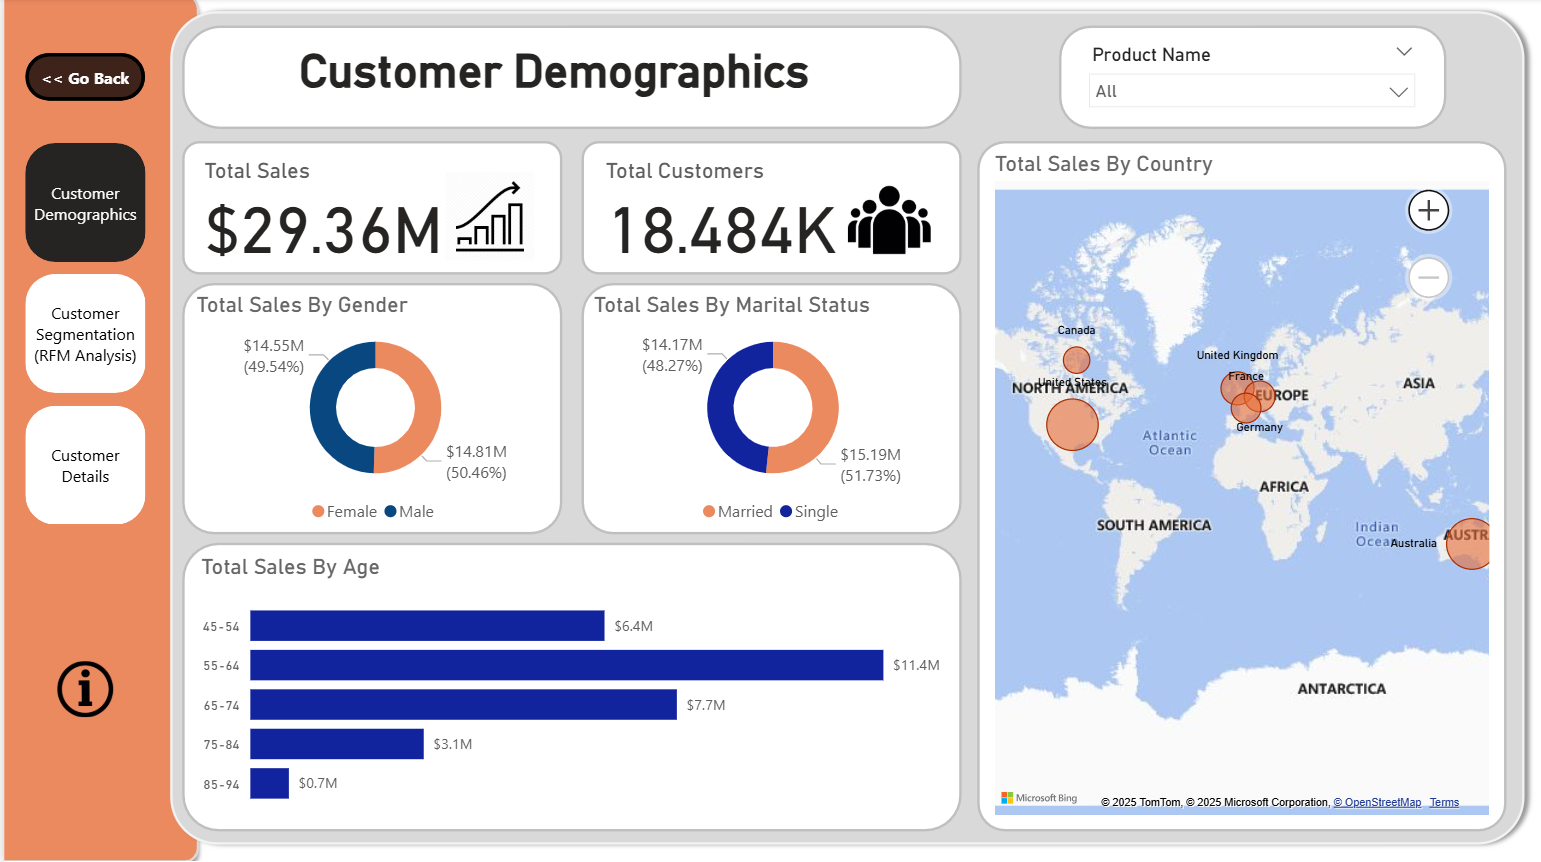

The page's visual inventory and layout, read from the dashboard file:
{"tool":"powerbi","page":{"name":"Customer Demographics","canvas":[1280,720],"ordinal":0},"visuals":[{"type":"cardVisual","fields":{"Data":["Sum(FactInternetSales.SalesAmount)"]},"box":[150,120.9,309.3,104.7],"z":0},{"type":"cardVisual","fields":{"Data":["Count(FactInternetSales.CustomerKey)"]},"box":[483.7,120.9,304.7,104.7],"z":1000},{"type":"donutChart","title":"Total Sales By Gender","fields":{"Y":["Sum(FactInternetSales.SalesAmount)"],"Category":["DimCustomer.Gender"]},"box":[160.5,244.2,297.7,196.5],"z":2000},{"type":"donutChart","title":"Total Sales By Marital Status","fields":{"Y":["Sum(FactInternetSales.SalesAmount)"],"Category":["DimCustomer.MaritalStatus"]},"box":[490.7,244.2,297.7,196.5],"z":3000},{"type":"barChart","title":"Total Sales By Age","fields":{"Category":["DimCustomer.AgeRange"],"Y":["Sum(FactInternetSales.SalesAmount)"]},"box":[159,462.5,628.8,222.4],"z":4000},{"type":"map","title":"Total Sales By Country","fields":{"Category":["DimGeography.CountryName","DimGeography.City"],"Size":["Sum(FactInternetSales.SalesAmount)"]},"box":[818.9,126.8,420.9,558.1],"z":5000},{"type":"textbox","box":[190.7,33.7,534.9,65.1],"z":6000},{"type":"slicer","fields":{"Values":["DimProduct.ProductName"]},"box":[891.9,33.7,291.9,65.1],"z":7000},{"type":"pageNavigator","box":[17.4,120.9,100,319.8],"z":8000},{"type":"image","box":[36,546.5,61.6,55.8],"z":9000},{"type":"actionButton","box":[18,45.6,99.7,39.6],"z":10000}]}

Visuals, with their boxes in screenshot pixels (x1, y1, x2, y2), scaled from the page's 1280x720 canvas onto the 1541x862 screenshot:
cardVisual - Sum(FactInternetSales.SalesAmount): box=[181, 145, 553, 270]
cardVisual - Count(FactInternetSales.CustomerKey): box=[582, 145, 949, 270]
"Total Sales By Gender" donutChart: box=[193, 292, 552, 528]
"Total Sales By Marital Status" donutChart: box=[591, 292, 949, 528]
"Total Sales By Age" barChart: box=[191, 554, 948, 820]
"Total Sales By Country" map: box=[986, 152, 1493, 820]
textbox: box=[230, 40, 874, 118]
slicer - DimProduct.ProductName: box=[1074, 40, 1425, 118]
pageNavigator: box=[21, 145, 141, 528]
image: box=[43, 654, 118, 721]
actionButton: box=[22, 55, 142, 102]
